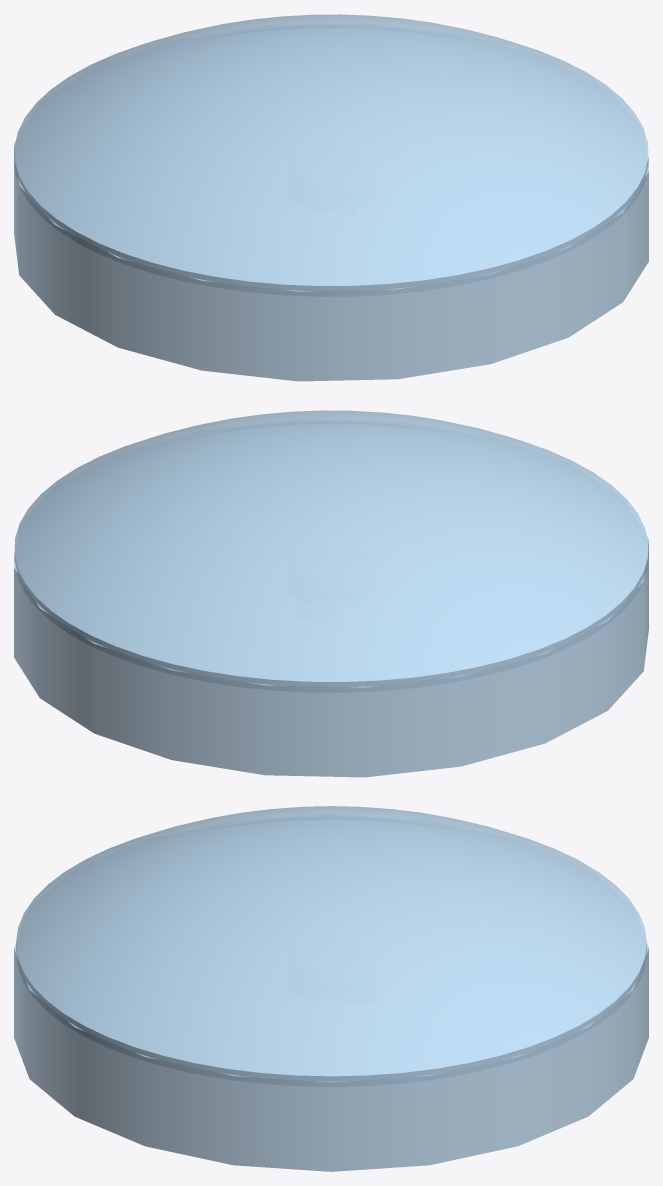
3 views of the same model, one above another, from view 1: azimuth 30°, elevation 25°; view 2: azimuth 150°, elevation 25°; view 3: azimuth 270°, elevation 25° (orthographic).
Parts seen in each view (by area): view 1: shield; view 2: shield; view 3: shield.
Boxes of the visible parts, x1,y1,x2,y2 form: shield: (14,14,648,381); shield: (14,410,648,777); shield: (14,806,648,1171).
Size of the model in its own units: 1.61 by 0.489 by 1.61.
